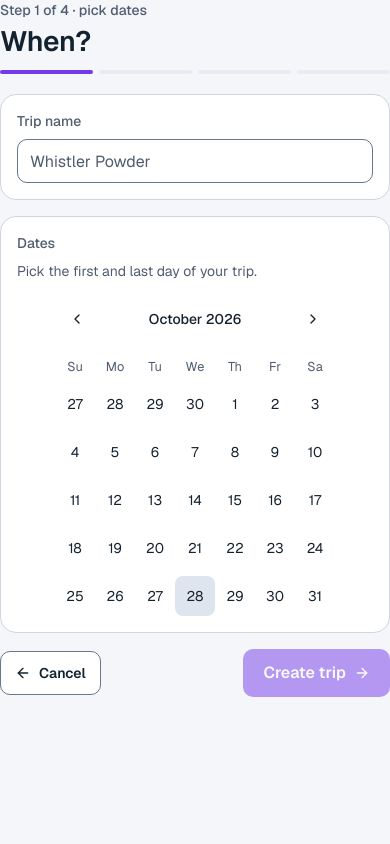
Test case: New trip wizard › in a time zone ahead of UTC › saves the days that were picked
Step 1. Type "Whistler" into the field with placeholder "Whistler Powder" → (195, 161), box [17, 139, 373, 183]
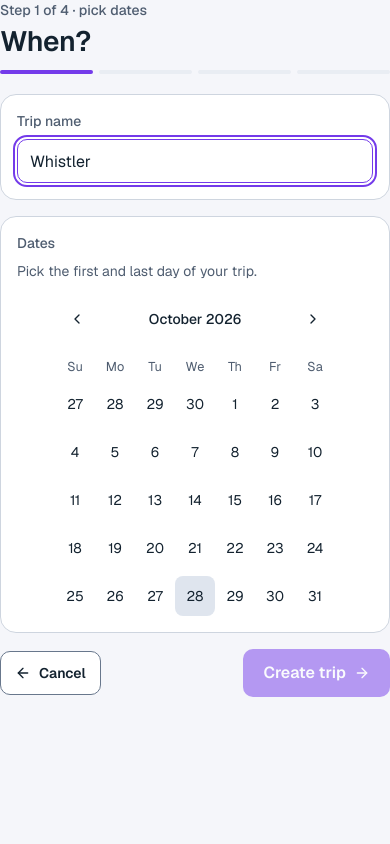
Step 2. Click the button "10" → (315, 452), box [295, 432, 335, 472]
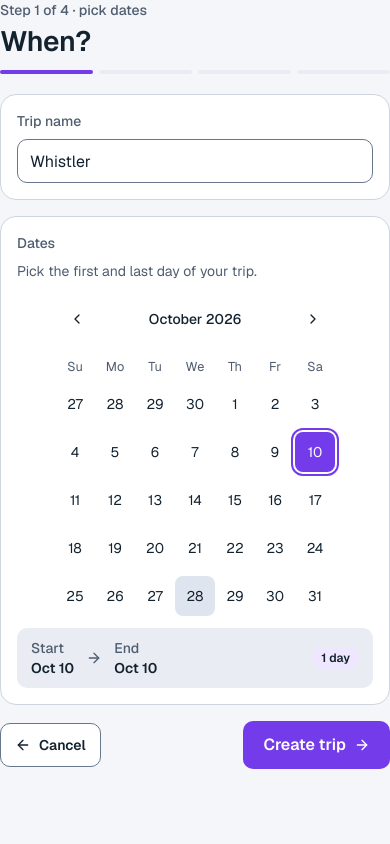
Step 3. Click the button "12" → (115, 500), box [95, 480, 135, 520]
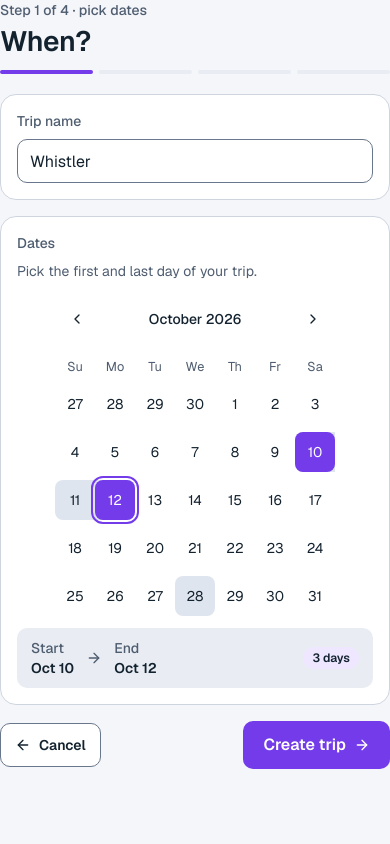
Step 4. Click the button "Create trip" → (317, 745), box [244, 721, 389, 769]
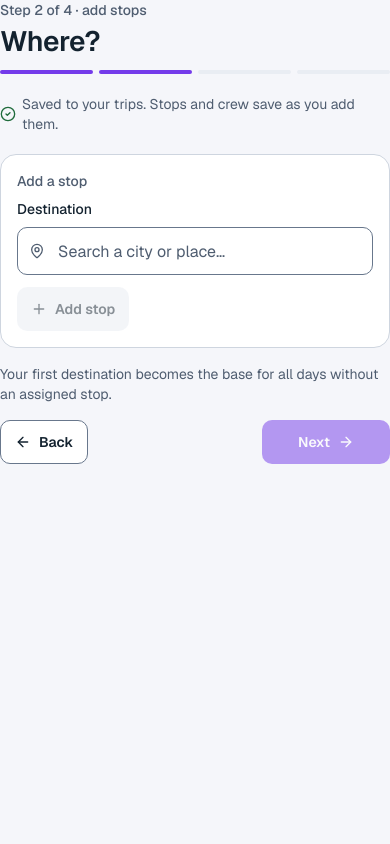
Result: the heading "Where?" is shown at [0, 23, 100, 59]
